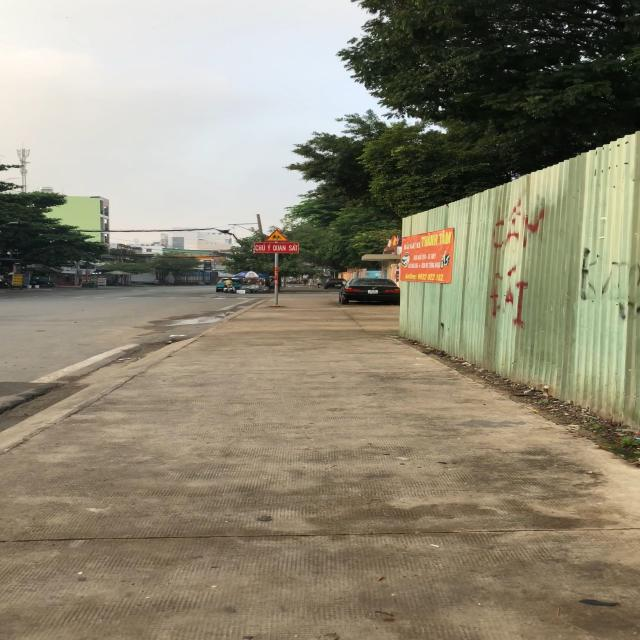Bien bao tre em: (265, 229, 292, 242)
